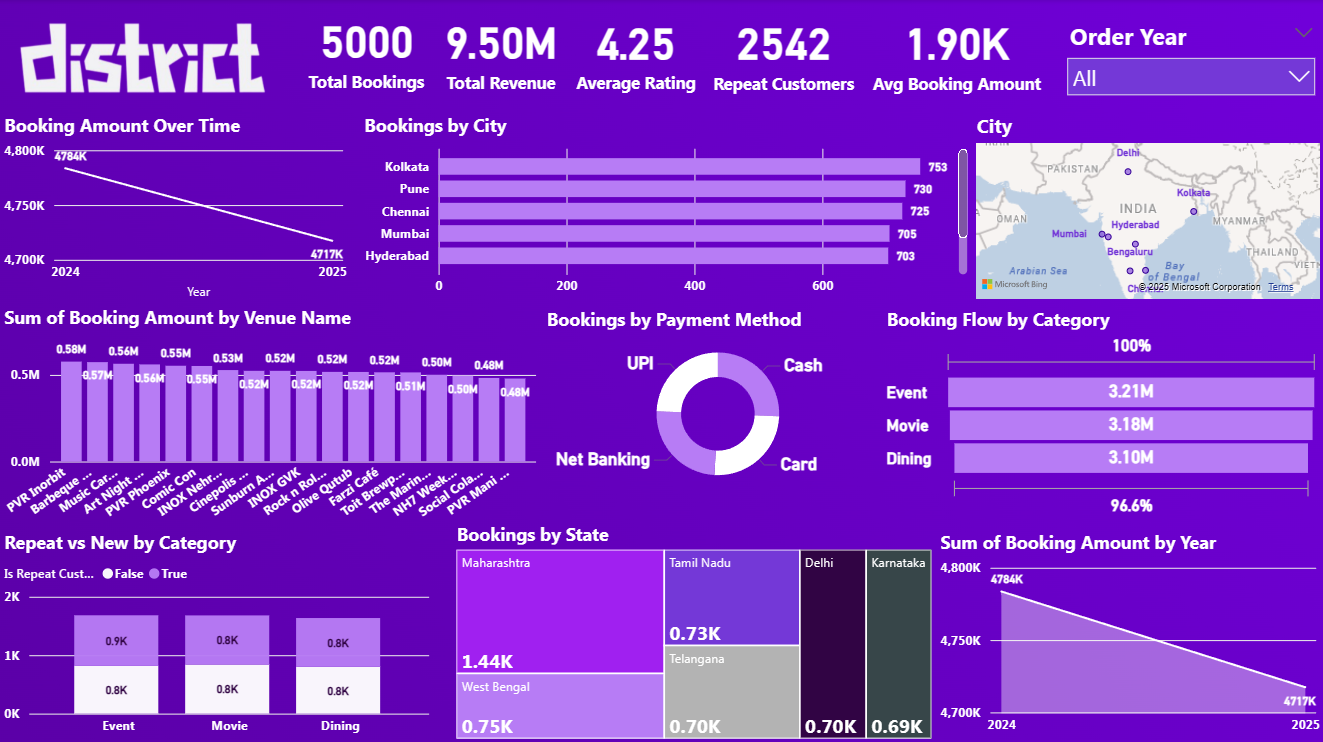

The page's visual inventory and layout, read from the dashboard file:
{"tool":"powerbi","page":{"name":"District","canvas":[1280,720],"ordinal":3},"visuals":[{"type":"image","box":[0,1,280,116],"z":0},{"type":"card","fields":{"Values":["District.Total Bookings"]},"box":[272.4,0.8,164,95],"z":1000},{"type":"card","fields":{"Values":["District.Total Revenue"]},"box":[410.4,4.8,149,89],"z":2000},{"type":"card","fields":{"Values":["District.Average Rating"]},"box":[484.4,2.8,260,95],"z":3000},{"type":"slicer","fields":{"Values":["District.Year"]},"box":[1020.1,14.7,259.9,100.5],"z":4000},{"type":"card","fields":{"Values":["District.Repeat Customers"]},"box":[631.6,3.7,253,93],"z":5000},{"type":"card","fields":{"Values":["District.Avg Booking Amount"]},"box":[799,4,252,94],"z":6000},{"type":"lineChart","title":"Booking Amount Over Time","fields":{"Category":["District.Booking_Date.Variation.Date Hierarchy.Year","District.Booking_Date.Variation.Date Hierarchy.Quarter","District.Booking_Date.Variation.Date Hierarchy.Month","District.Booking_Date.Variation.Date Hierarchy.Day"],"Y":["Sum(District.Booking Amount)"]},"box":[0,110.3,340.8,185.1],"z":7000},{"type":"clusteredBarChart","title":"Bookings by City","fields":{"Category":["District.City"],"Y":["CountNonNull(District.Customer ID)"]},"box":[347,110.3,592.2,185.1],"z":8000},{"type":"donutChart","title":"Bookings by Payment Method","fields":{"Category":["District.Payment Method"],"Y":["Sum(District.Booking Amount)"]},"box":[523.5,296.7,340.8,185.1],"z":9000},{"type":"map","fields":{"Category":["District.City"]},"box":[939.2,110.3,340.8,185.1],"z":10000},{"type":"columnChart","fields":{"Category":["District.Venue Name"],"Y":["Sum(District.Booking Amount)"]},"box":[0,295.5,523.5,217],"z":11000},{"type":"funnel","title":"Booking Flow by Category","fields":{"Category":["District.Category"],"Y":["Sum(District.Booking Amount)"]},"box":[852.1,296.7,427.9,207.2],"z":12000},{"type":"columnChart","title":" Repeat vs New by Category","fields":{"Category":["District.Category"],"Y":["CountNonNull(District.Customer ID)"],"Series":["District.Is Repeat Customer"]},"box":[0,512.5,420.5,207.2],"z":13000},{"type":"treemap","title":"Bookings by State","fields":{"Group":["District.State"],"Values":["CountNonNull(District.Booking_Date)"]},"box":[436.5,503.9,468.4,214.6],"z":14000},{"type":"areaChart","fields":{"Category":["District.Year"],"Y":["Sum(District.Booking Amount)"]},"box":[903.6,512.5,376.4,206],"z":15000}]}

Visuals, with their boxes in screenshot pixels (x1, y1, x2, y2), scaled from the page's 1280x720 canvas onto the 1323x742 screenshot:
image: 0,1,289,121
card - District.Total Bookings: 282,1,451,99
card - District.Total Revenue: 424,5,578,97
card - District.Average Rating: 501,3,769,101
slicer - District.Year: 1054,15,1322,119
card - District.Repeat Customers: 653,4,914,100
card - District.Avg Booking Amount: 826,4,1086,101
"Booking Amount Over Time" lineChart: 0,114,352,304
"Bookings by City" clusteredBarChart: 359,114,971,304
"Bookings by Payment Method" donutChart: 541,306,893,497
map - District.City: 971,114,1322,304
columnChart - District.Venue Name x Sum(District.Booking Amount): 0,305,541,528
"Booking Flow by Category" funnel: 881,306,1322,519
" Repeat vs New by Category" columnChart: 0,528,435,741
"Bookings by State" treemap: 451,519,935,740
areaChart - District.Year x Sum(District.Booking Amount): 934,528,1322,740
